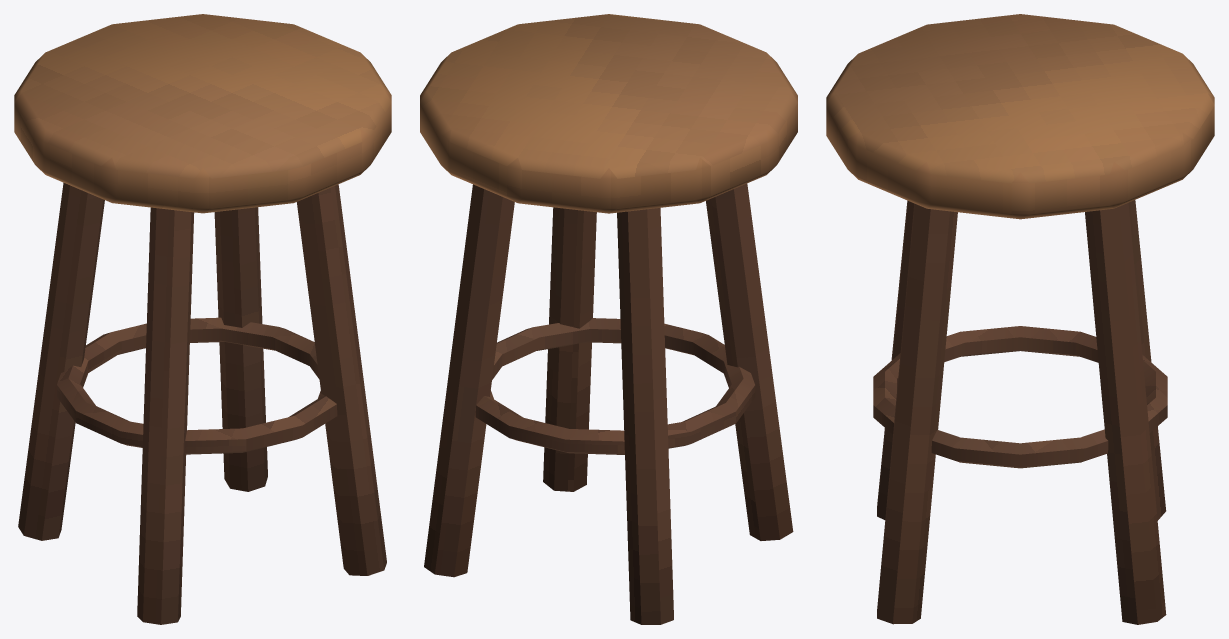
The model's file is stool_wood.glb.
3 renders of one model, left to right at view 1: azimuth 30°, elevation 25°; view 2: azimuth 150°, elevation 25°; view 3: azimuth 270°, elevation 25°, orthographic. The views are drawn at different scales.
Visible parts, largest first — view 1: stool_wood; view 2: stool_wood; view 3: stool_wood.
Part boxes in pixels (x1,y1,x2,y2): stool_wood: (14,14,391,624); stool_wood: (420,14,797,624); stool_wood: (826,14,1214,624).
Bounding box in the file's own units: 0.3358 × 0.4524 × 0.3358.
Materials: 2 (2 with a texture image).
